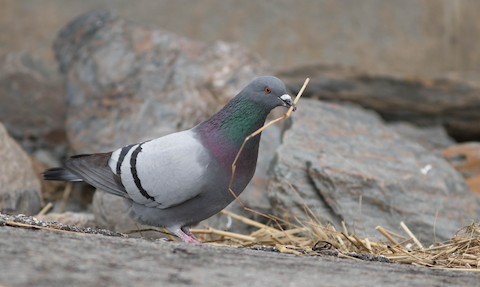pigeon: (34, 73, 299, 247)
